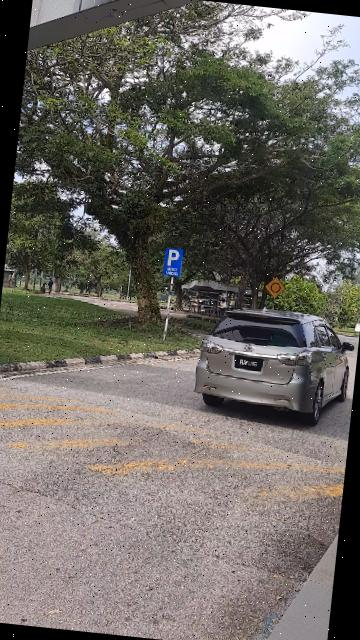License_Plate: (234, 356, 267, 374)
car: (190, 301, 360, 432)
